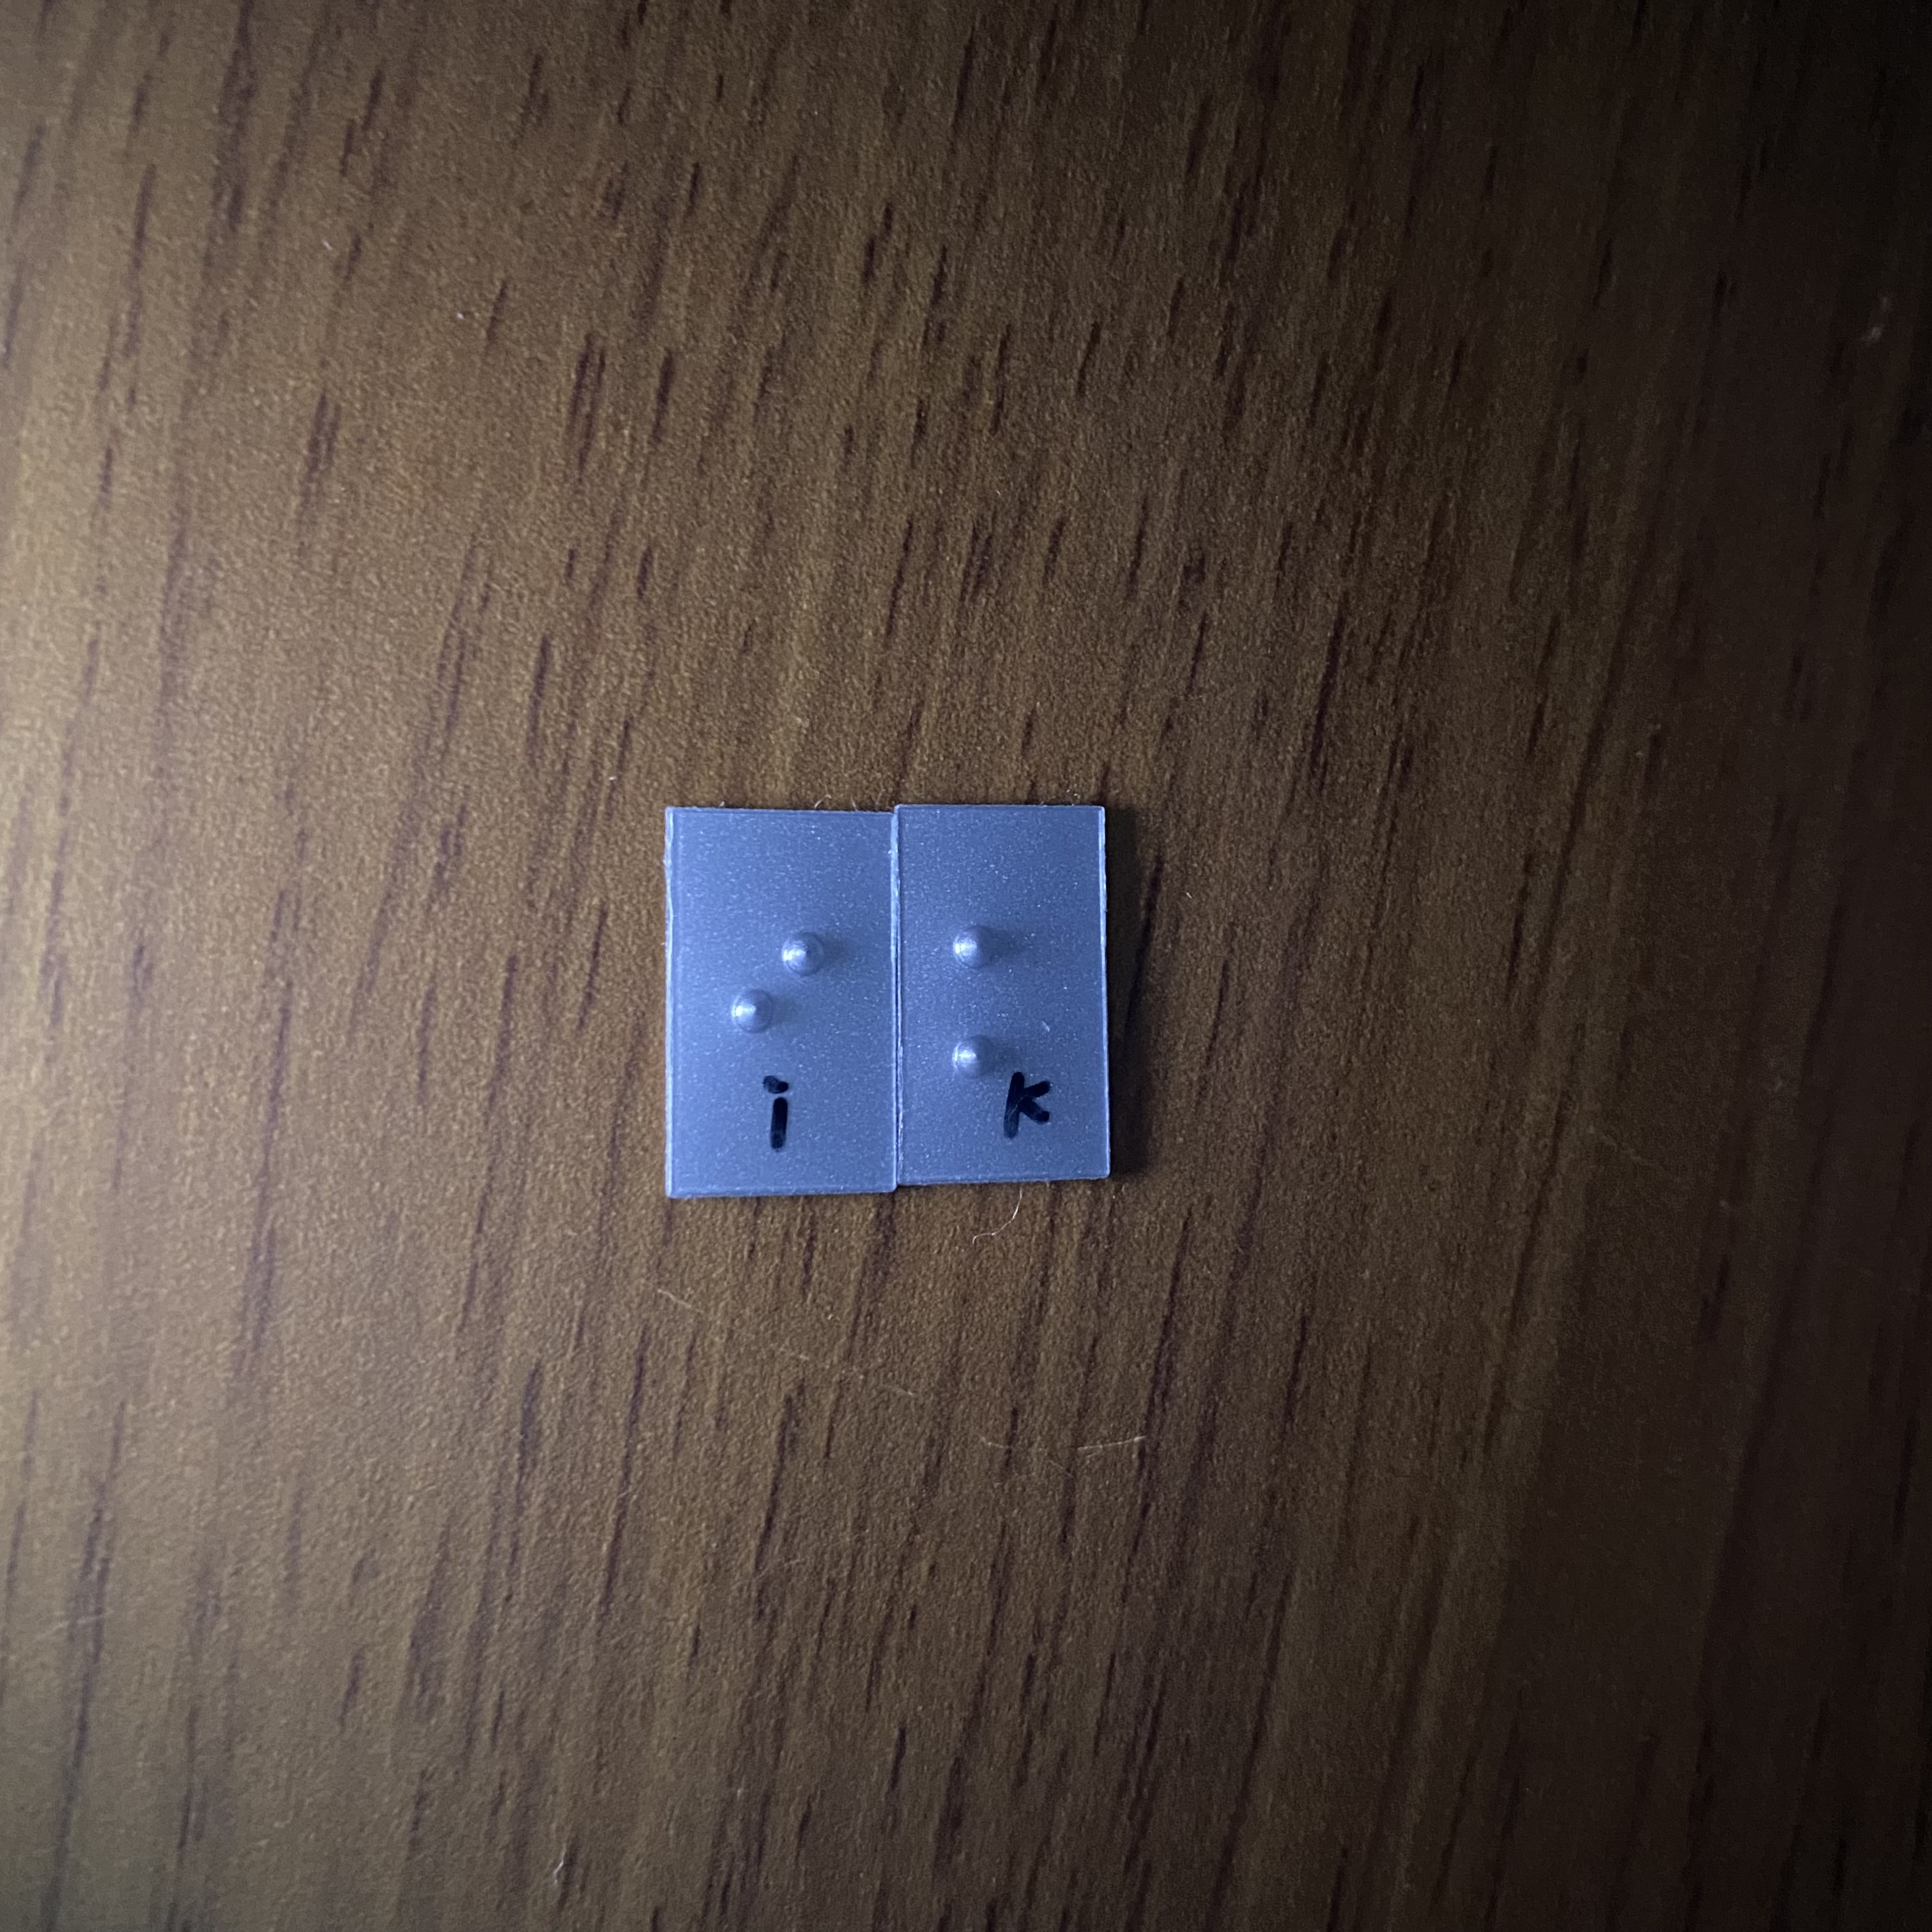i: (719, 907, 847, 1106)
k: (928, 901, 1071, 1099)
